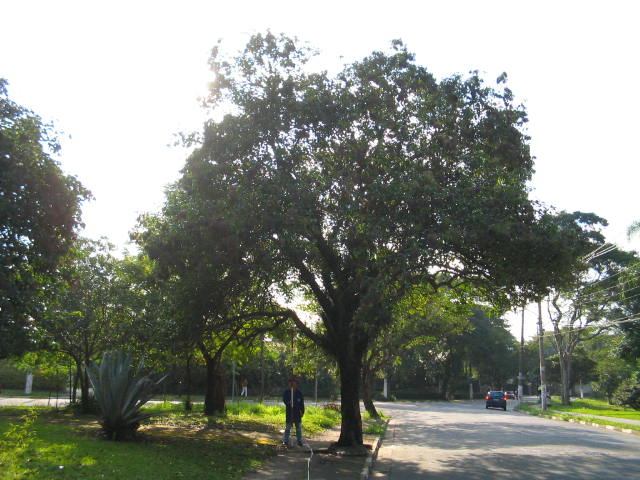crown: (128, 22, 636, 352)
stem: (325, 361, 372, 447)
stick: (287, 329, 297, 446)
tree: (126, 20, 637, 446)
